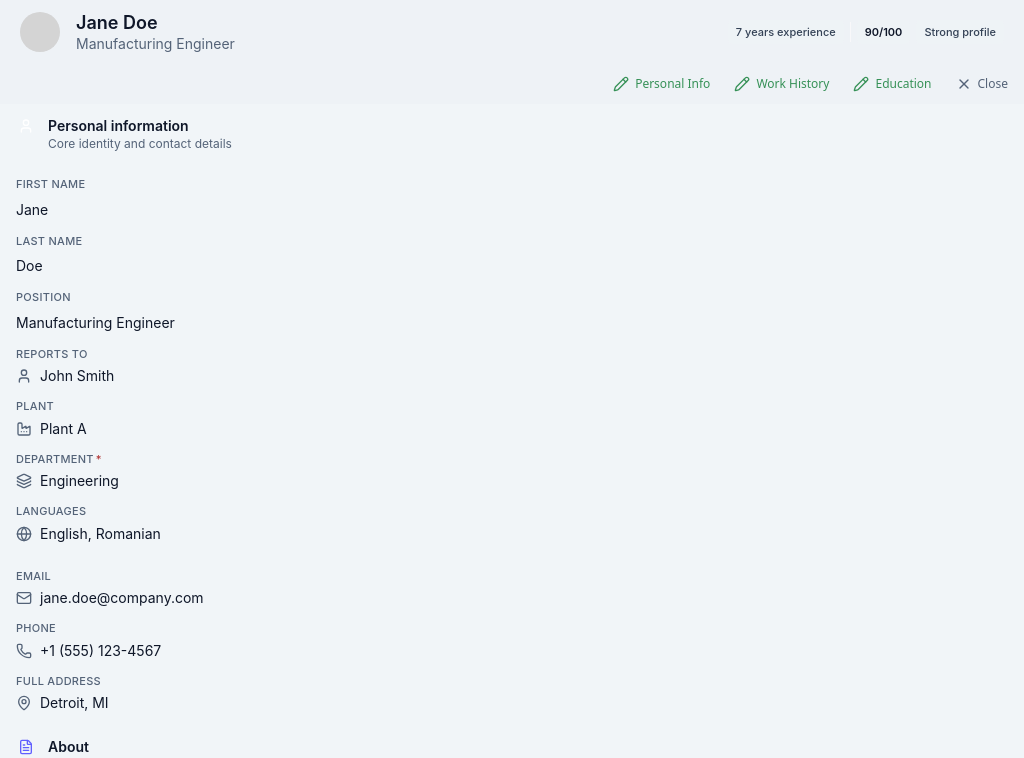
Test: UserProfilePage — integration › edit mode buttons › clicks Personal Info edit button and shows Save/Cancel
Click the button "Personal Info" at (662, 84), box [605,68,718,100]
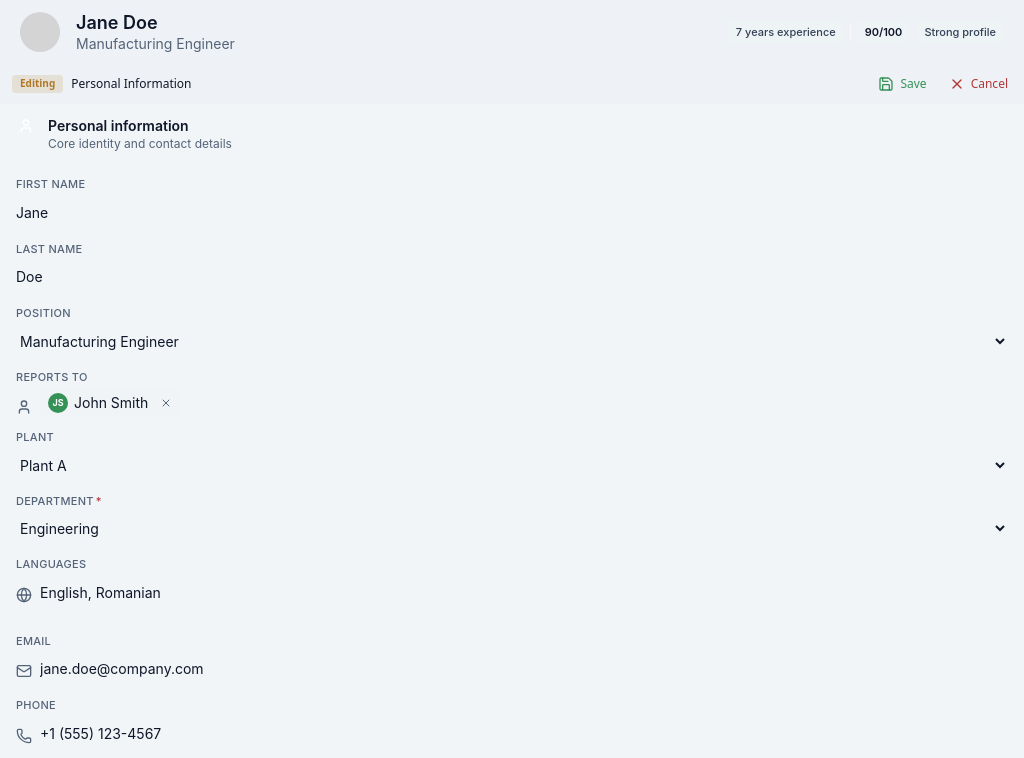
expect the text "Save" is shown: met, box [900,76,927,92]
expect the text "Cancel" is shown: met, box [971,76,1008,92]
